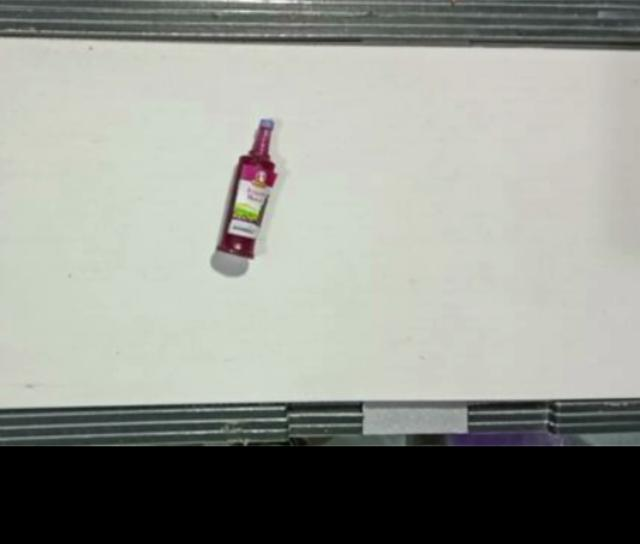Plastik: (215, 117, 278, 259)
